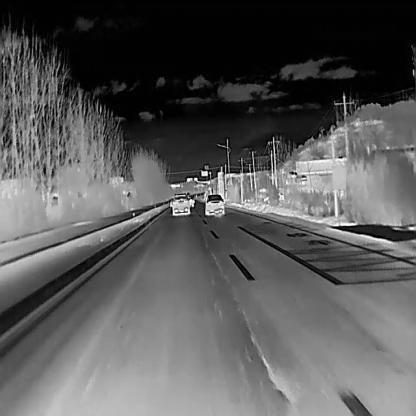car: (204, 194, 224, 217), (172, 193, 190, 216), (262, 192, 285, 203), (186, 194, 194, 207)
